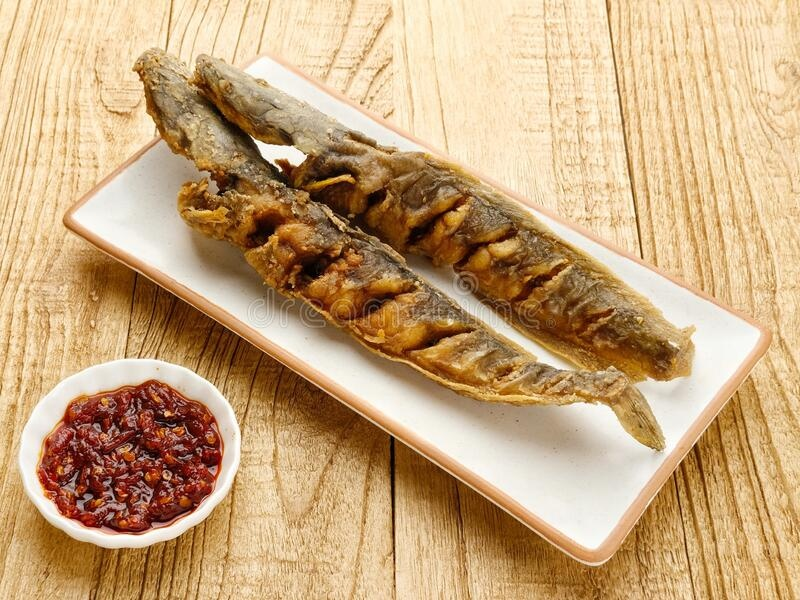pecel_lele: (115, 43, 707, 438)
